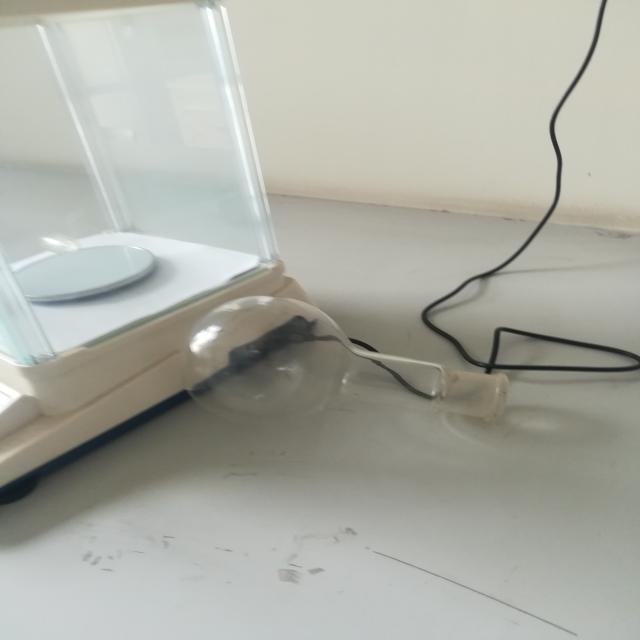Round_Bottom_Flask_Borosilicate_Glass_1_Neck: (138, 273, 538, 457)
